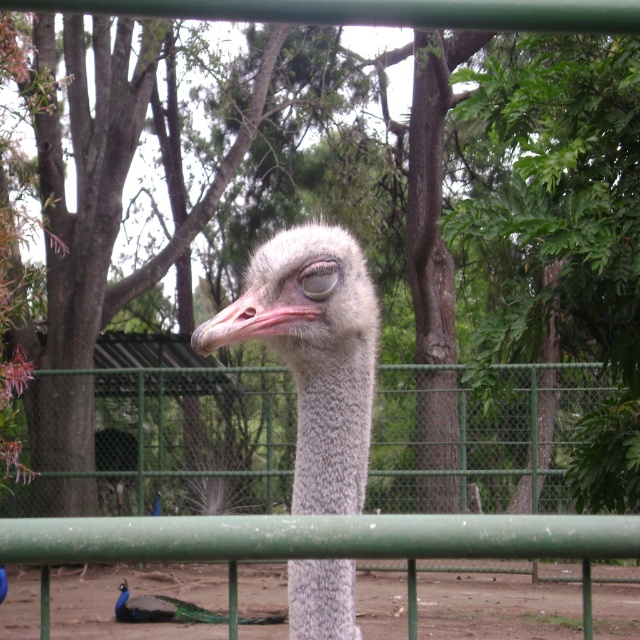Ostrich: (191, 192, 384, 640)
